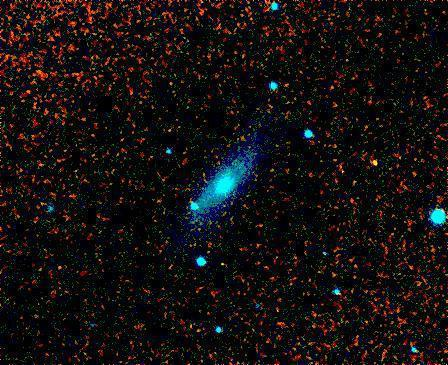star: (363, 146, 393, 176)
